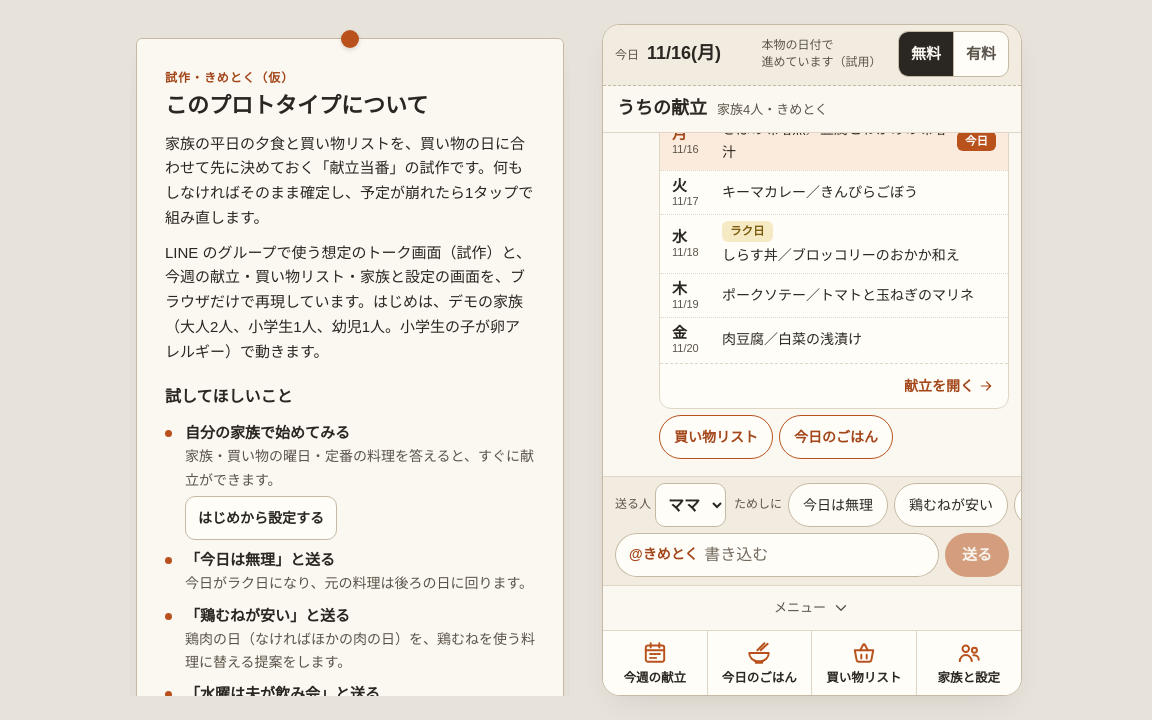
Test: 本物の日付で進めるときは、トークに時刻を出さない（エンジンの時刻は目安で、本物の時刻と合わない） › 本物の日付：夜の19時に書いても「08:28」のような時刻は出さない（日の区切りは出す）
(page scrolled)
Type "買い物リスト" into the field named "きめとくへの書き込み". click: (815,555)
box: left=704, top=533, right=925, bottom=577
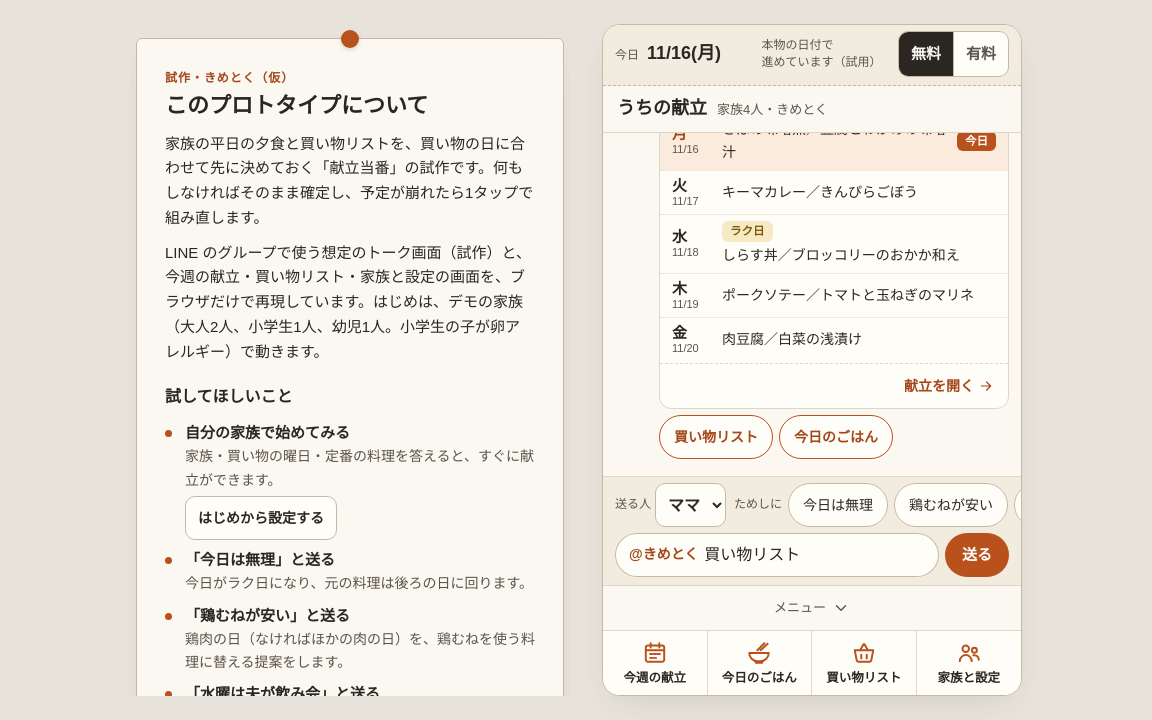
Click the button "送る". click: (977,555)
box: left=945, top=533, right=1009, bottom=577
(page scrolled)
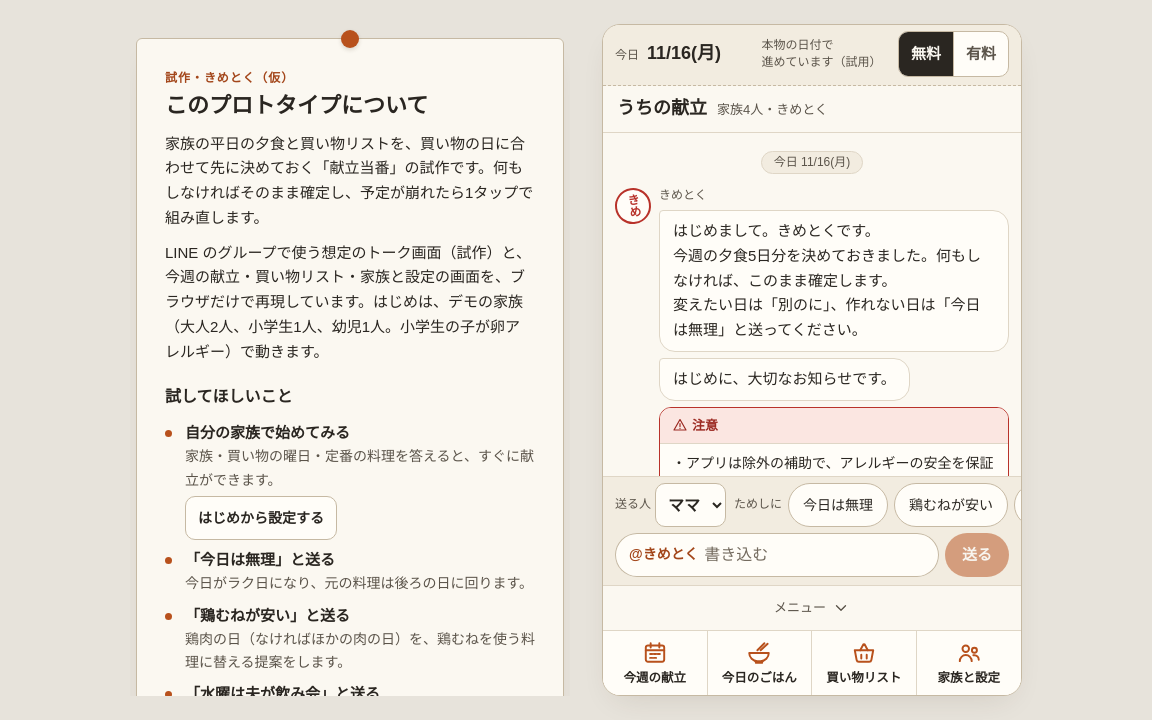
Expected: the element with class "day-divider" is shown, left=761, top=151, right=863, bottom=174
